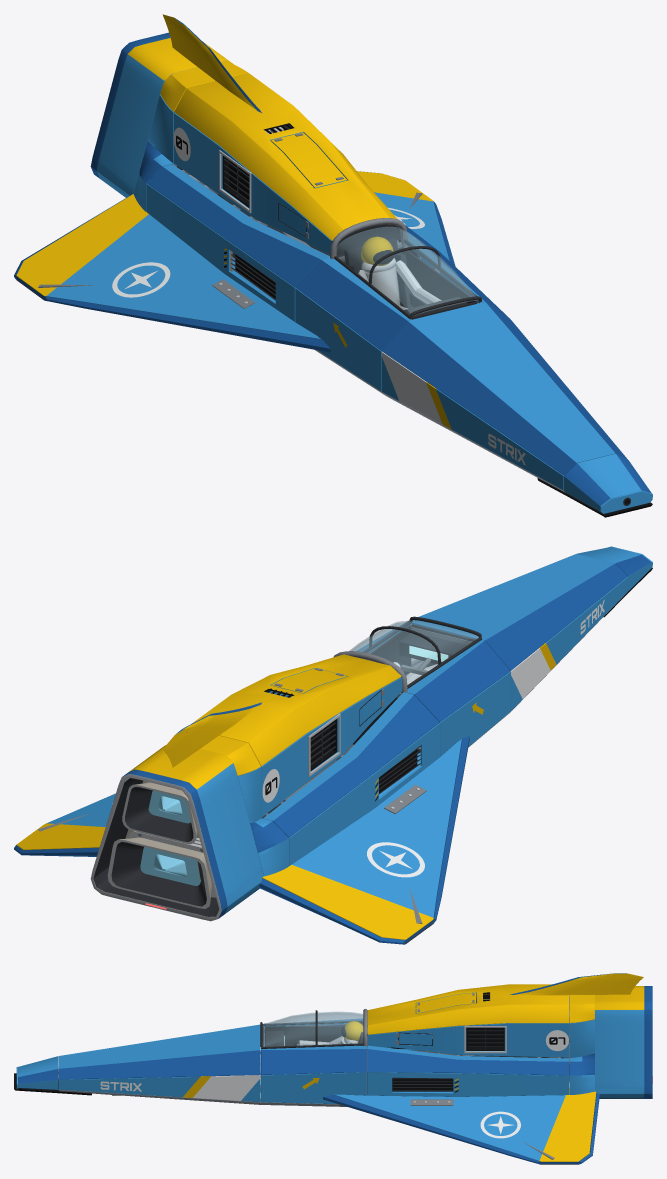
The model's file is STRIX_V2.fbx.
3 views of the same model, one above another, from view 1: azimuth 30°, elevation 25°; view 2: azimuth 150°, elevation 25°; view 3: azimuth 270°, elevation 25° (orthographic). The views are drawn at different scales.
Visible parts, largest first — view 1: Nose_Top, Wing_Top_L, Spine_Top, Engine_Shroud, Canopy, Deck_L, Nose_Side_L, Cowl_L, Spine_Side_L, Side_L, Nose_Cap, Cockpit_Side_L (+16 smaller); view 2: Wing_Top_L, Engine_Shroud, Nose_Top, Spine_Top, Deck_L, Engine_Lower, Side_L, Cowl_L, Spine_Side_L, Canopy, Engine_Upper, Nose_Side_L (+16 smaller); view 3: Wing_Top_R, Nose_Top, Engine_Shroud, Spine_Top, Deck_R, Side_R, Nose_Side_R, Spine_Side_R, Canopy, Cowl_R, Cockpit_Side_R, Dorsal_Fin (+16 smaller).
Boxes of the visible parts, <box> form: Nose_Top: <box>382,302,627,475</box>; Wing_Top_L: <box>16,194,320,339</box>; Spine_Top: <box>174,73,397,240</box>; Engine_Shroud: <box>90,32,232,197</box>; Canopy: <box>336,227,478,315</box>; Deck_L: <box>147,164,329,287</box>; Nose_Side_L: <box>381,351,563,490</box>; Cowl_L: <box>295,257,411,350</box>; Spine_Side_L: <box>174,112,331,254</box>; Side_L: <box>146,183,295,321</box>; Nose_Cap: <box>564,453,652,513</box>; Cockpit_Side_L: <box>295,288,381,391</box>; Wing_Top_L: <box>262,739,461,939</box>; Engine_Shroud: <box>90,745,263,921</box>; Nose_Top: <box>411,554,627,670</box>; Spine_Top: <box>192,654,401,766</box>; Deck_L: <box>263,692,439,837</box>; Engine_Lower: <box>107,831,215,908</box>; Side_L: <box>289,723,439,865</box>; Cowl_L: <box>405,640,510,722</box>; Spine_Side_L: <box>261,677,402,817</box>; Canopy: <box>349,620,478,684</box>; Engine_Upper: <box>122,774,243,844</box>; Nose_Side_L: <box>510,576,628,710</box>; Wing_Top_R: <box>335,1088,596,1161</box>; Nose_Top: <box>58,1024,260,1079</box>; Engine_Shroud: <box>595,986,652,1098</box>; Spine_Top: <box>367,984,569,1034</box>; Deck_R: <box>367,1045,569,1075</box>; Side_R: <box>367,1072,569,1096</box>; Nose_Side_R: <box>58,1075,260,1102</box>; Spine_Side_R: <box>367,1023,569,1057</box>; Canopy: <box>262,1012,363,1046</box>; Cowl_R: <box>261,1045,366,1074</box>; Cockpit_Side_R: <box>261,1072,366,1104</box>; Dorsal_Fin: <box>510,973,643,995</box>.
Size of the model in its own units: 300 by 139 by 631.
